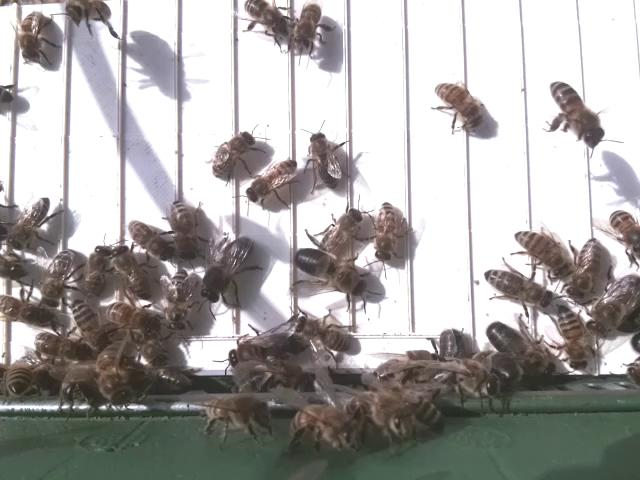Drone: (482, 318, 558, 382), (287, 245, 368, 302), (196, 233, 256, 307), (586, 273, 640, 341), (226, 330, 306, 371)
Worker: (546, 78, 604, 153), (481, 265, 557, 311), (432, 79, 486, 133), (9, 192, 56, 254), (512, 227, 568, 277), (558, 303, 595, 373), (563, 236, 602, 302), (209, 128, 258, 180), (111, 243, 154, 302), (37, 246, 76, 311), (245, 158, 298, 204), (306, 128, 343, 193), (163, 266, 198, 334), (293, 314, 353, 353), (288, 0, 326, 58), (13, 7, 50, 66), (126, 215, 172, 262), (239, 0, 291, 41), (168, 195, 198, 261), (82, 241, 114, 302), (372, 198, 401, 265), (608, 205, 640, 264)
